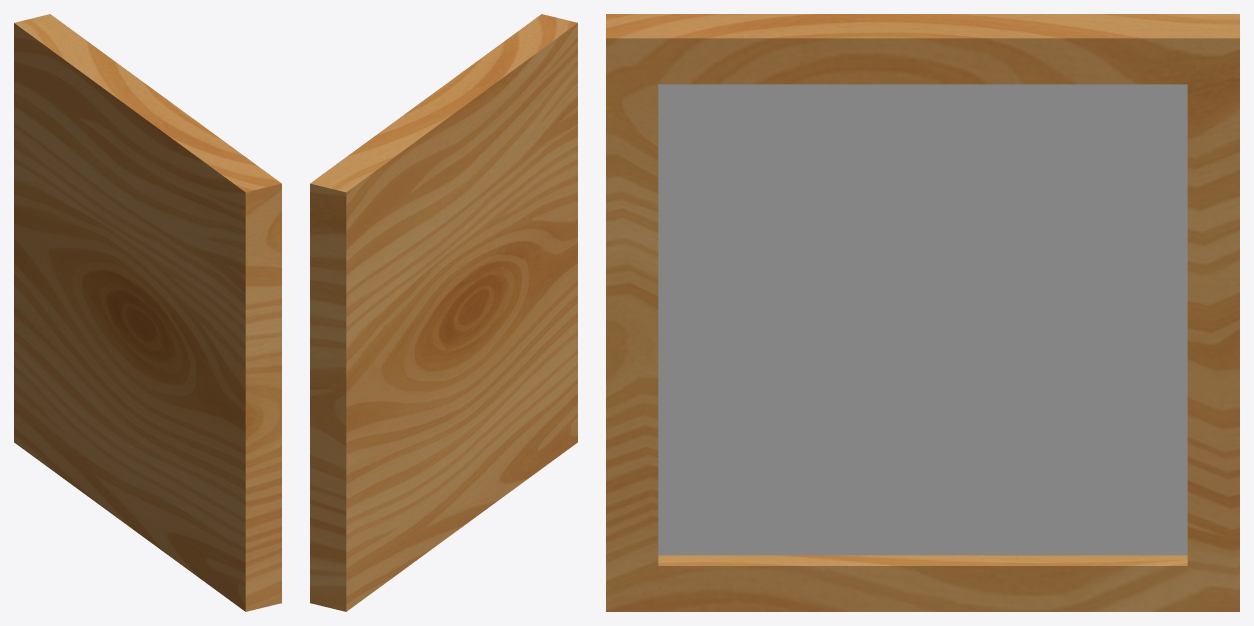
File: Picture_Hang_2.fbx
3 views of the same model, side by side, from view 1: azimuth 30°, elevation 25°; view 2: azimuth 150°, elevation 25°; view 3: azimuth 270°, elevation 25° (orthographic). The views are drawn at different scales.
Visible parts, largest first — view 1: Picture_Hang_2; view 2: Picture_Hang_2; view 3: Picture_Hang_2.
Part boxes in pixels (box(x1,y1,x2,y2)): Picture_Hang_2: box(14, 14, 281, 611); Picture_Hang_2: box(310, 14, 577, 611); Picture_Hang_2: box(606, 14, 1239, 611).
Bounding box in the file's own units: 5.02 × 55.44 × 55.5.
